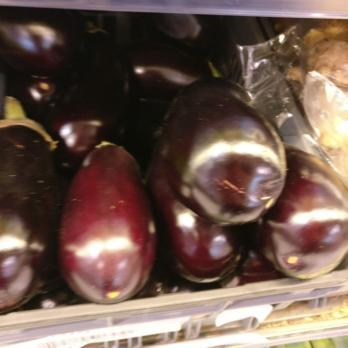Brinjal: (1, 15, 283, 282), (282, 142, 348, 276)
